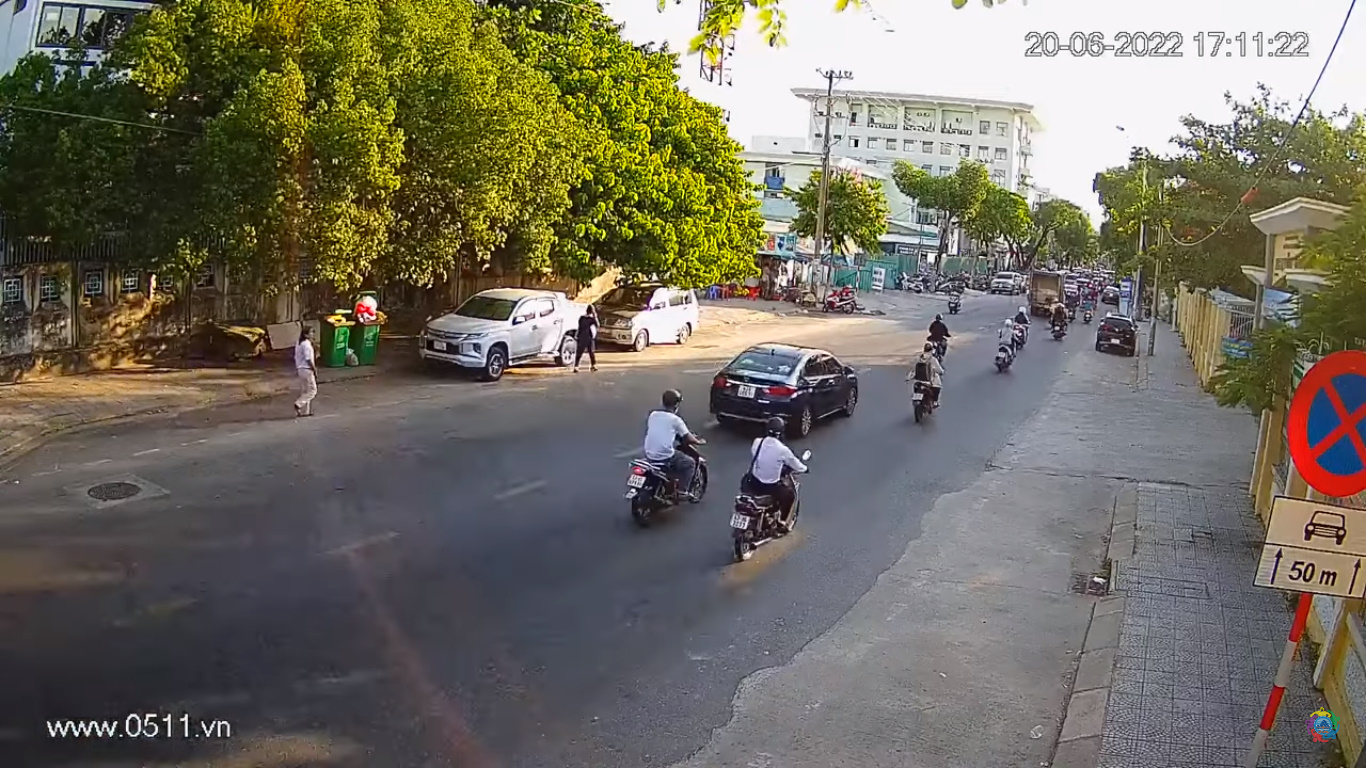car: (709, 342, 861, 443)
